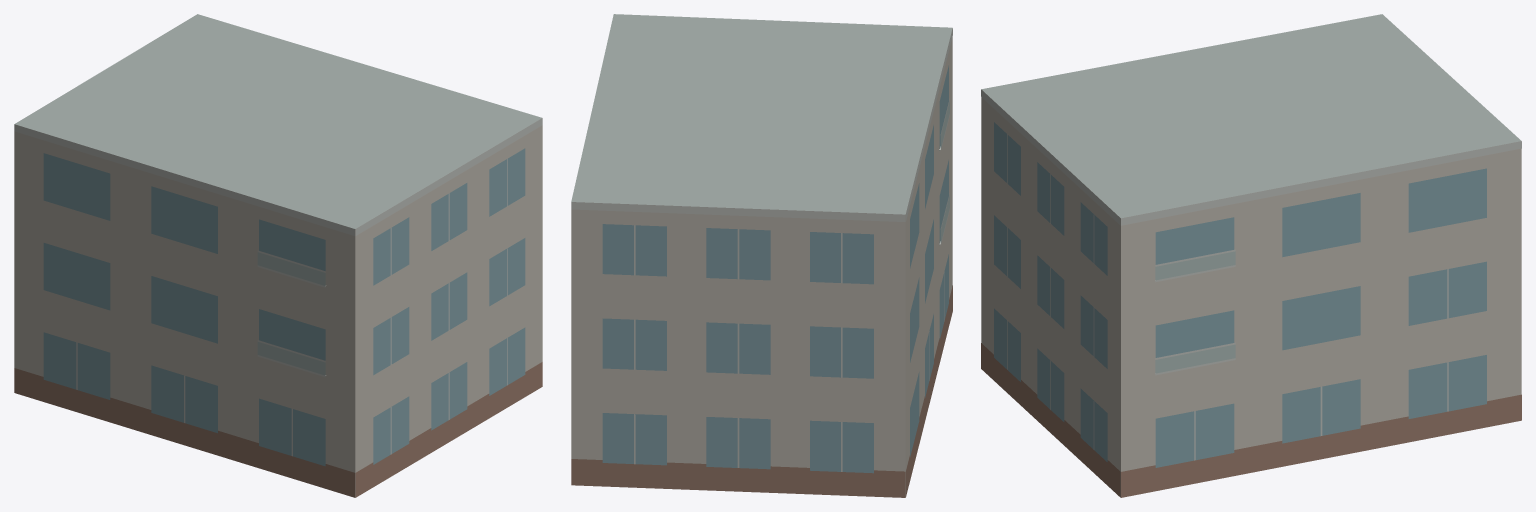
The model's file is survey-upis-32687681.glb.
3 views of the same model, side by side, from view 1: azimuth 30°, elevation 25°; view 2: azimuth 150°, elevation 25°; view 3: azimuth 270°, elevation 25° (orthographic). The views are drawn at different scales.
Parts seen in each view (by area): view 1: survey-upis-32687681.tmp; view 2: survey-upis-32687681.tmp; view 3: survey-upis-32687681.tmp.
Part boxes in pixels (x1,y1,x2,y2): survey-upis-32687681.tmp: (14,14,542,497); survey-upis-32687681.tmp: (571,14,952,497); survey-upis-32687681.tmp: (981,14,1521,497).
Bounding box in the file's own units: 14.36 × 9.15 × 16.05.
